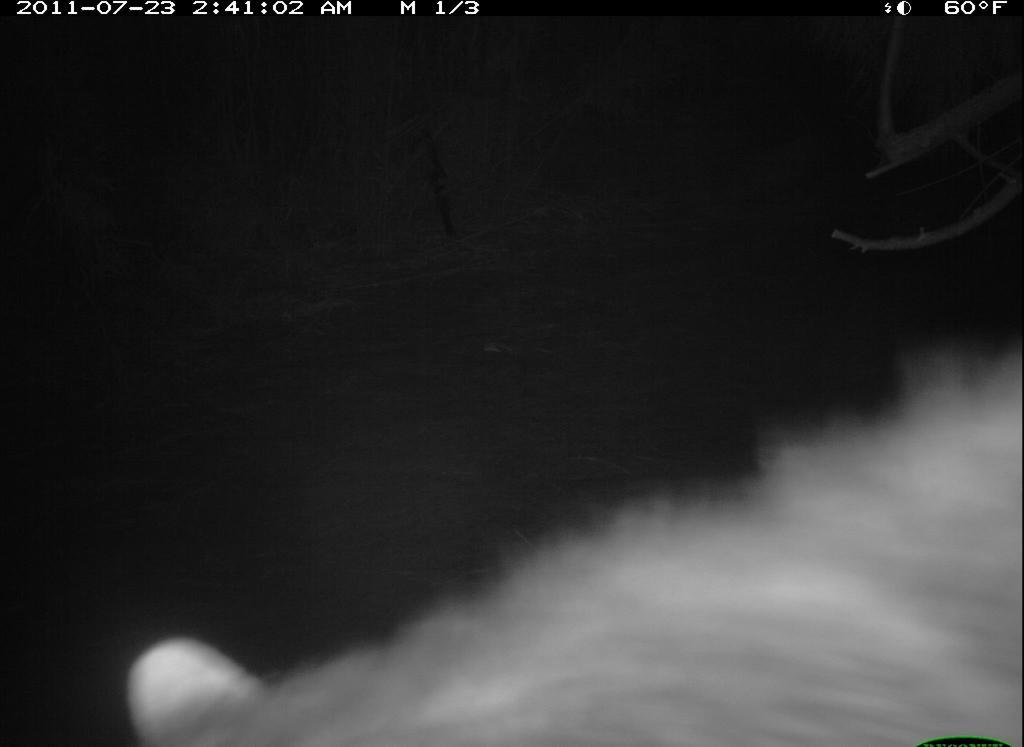raccoon: (97, 356, 1021, 747)
